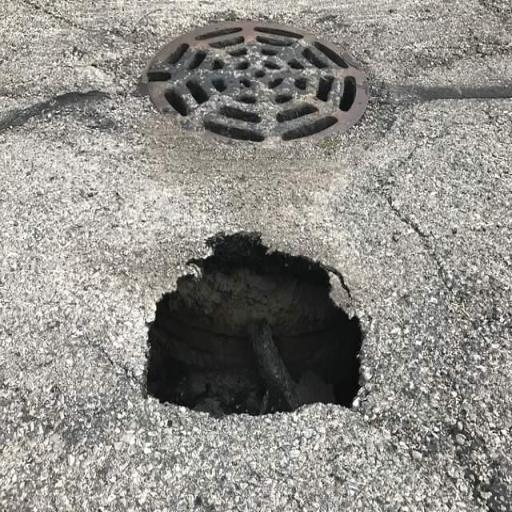Concentric_Crack: (147, 232, 361, 414)
